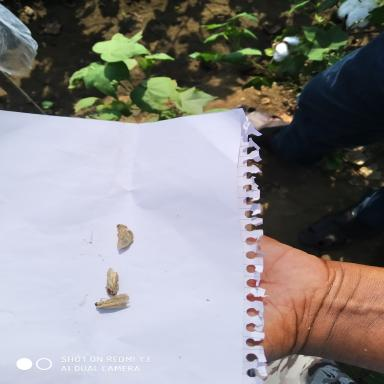abw: (93, 291, 133, 312), (116, 223, 136, 251), (103, 266, 119, 296)
